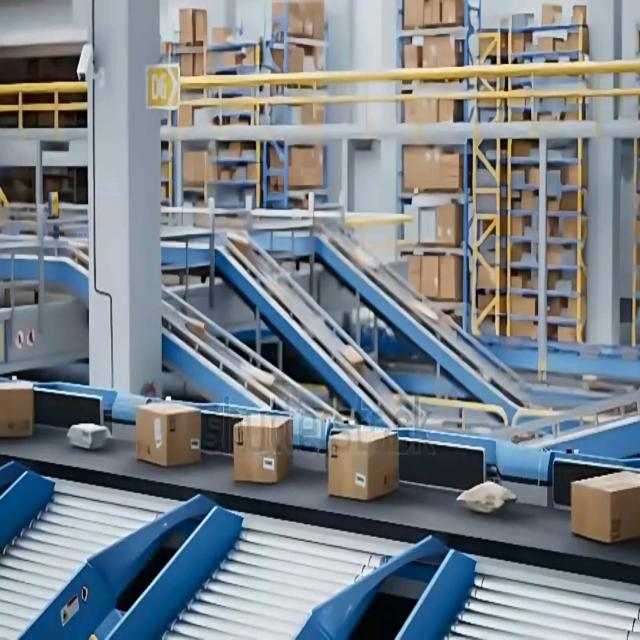product 1: (328, 425, 400, 501), (136, 401, 202, 467), (233, 412, 293, 483)
product 2: (78, 421, 110, 450)
